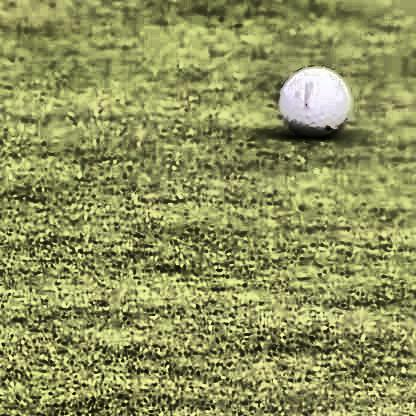golfball: (279, 62, 349, 133)
